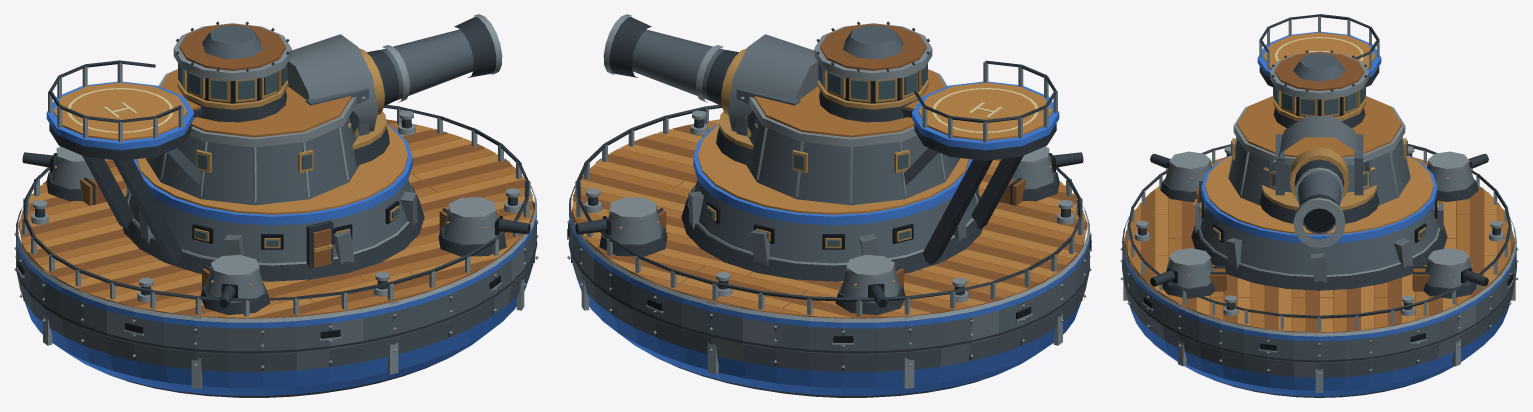
3 renders of one model, left to right at view 1: azimuth 30°, elevation 25°; view 2: azimuth 150°, elevation 25°; view 3: azimuth 270°, elevation 25°, orthographic. The views are drawn at different scales.
Parts seen in each view (by area): view 1: hull-main-armor, hull-team-lower-belt, upper-keep, citadel-low-wall, dock-wood-surface, citadel-terrace, siege-armored-mantlet, main-deck, citadel-foot, siege-barrel-main, upper-keep-roof, citadel-deck-trim (+57 smaller); view 2: hull-main-armor, hull-team-lower-belt, upper-keep, citadel-low-wall, dock-wood-surface, citadel-terrace, siege-armored-mantlet, main-deck, citadel-foot, siege-barrel-main, upper-keep-roof, citadel-deck-trim (+55 smaller); view 3: hull-main-armor, citadel-low-wall, hull-team-lower-belt, citadel-terrace, upper-keep-roof, upper-keep, citadel-foot, citadel-deck-trim, main-deck, hull-top-team-trim, hull-deck-steel-lip, dock-wood-surface (+60 smaller).
Part boxes in pixels (bbox=[...]): hull-main-armor: bbox=[16, 220, 536, 372]; hull-team-lower-belt: bbox=[24, 279, 528, 395]; upper-keep: bbox=[146, 117, 359, 205]; citadel-low-wall: bbox=[128, 179, 411, 263]; dock-wood-surface: bbox=[53, 82, 187, 140]; citadel-terrace: bbox=[136, 125, 407, 214]; siege-armored-mantlet: bbox=[287, 34, 377, 131]; main-deck: bbox=[18, 122, 534, 318]; citadel-foot: bbox=[122, 185, 424, 281]; siege-barrel-main: bbox=[379, 29, 473, 101]; upper-keep-roof: bbox=[161, 69, 351, 137]; citadel-deck-trim: bbox=[133, 124, 412, 225]; hull-main-armor: bbox=[569, 220, 1089, 372]; hull-team-lower-belt: bbox=[577, 279, 1081, 395]; upper-keep: bbox=[746, 117, 959, 205]; citadel-low-wall: bbox=[694, 179, 977, 263]; dock-wood-surface: bbox=[918, 82, 1052, 140]; citadel-terrace: bbox=[698, 125, 969, 214]; siege-armored-mantlet: bbox=[728, 34, 818, 131]; main-deck: bbox=[571, 122, 1087, 318]; citadel-foot: bbox=[681, 185, 983, 281]; siege-barrel-main: bbox=[632, 29, 726, 101]; upper-keep-roof: bbox=[754, 69, 944, 137]; citadel-deck-trim: bbox=[693, 124, 972, 225]; hull-main-armor: bbox=[1122, 247, 1516, 377]; citadel-low-wall: bbox=[1200, 206, 1438, 275]; hull-team-lower-belt: bbox=[1127, 298, 1511, 396]; citadel-terrace: bbox=[1205, 156, 1433, 234]; upper-keep-roof: bbox=[1237, 96, 1401, 157]; upper-keep: bbox=[1228, 138, 1410, 205]; citadel-foot: bbox=[1191, 225, 1447, 291]; citadel-deck-trim: bbox=[1201, 155, 1437, 242]; main-deck: bbox=[1124, 158, 1514, 332]; hull-top-team-trim: bbox=[1122, 243, 1516, 341]; hull-deck-steel-lip: bbox=[1122, 216, 1516, 336]; dock-wood-surface: bbox=[1263, 32, 1375, 69].
Bounding box in the file's own units: 2.55 × 1.58 × 2.25.
